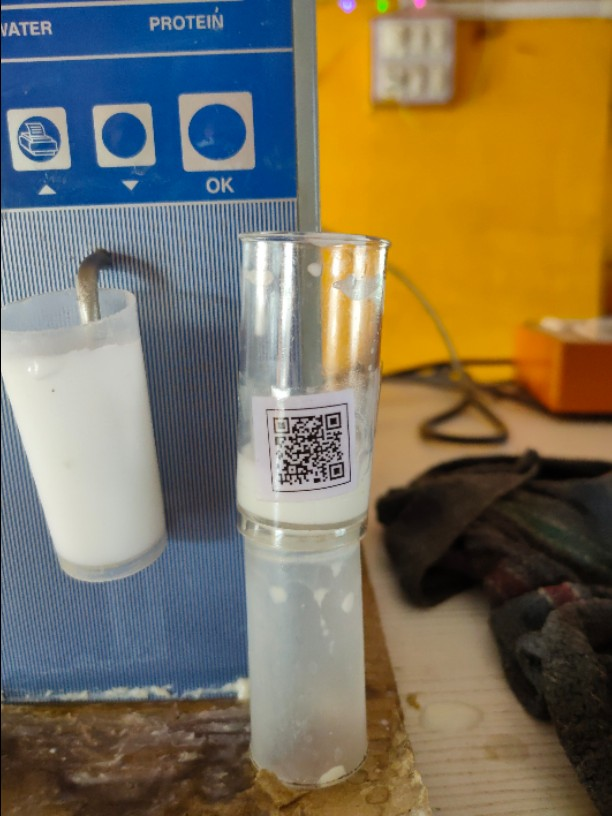qr: (261, 405, 358, 494)
